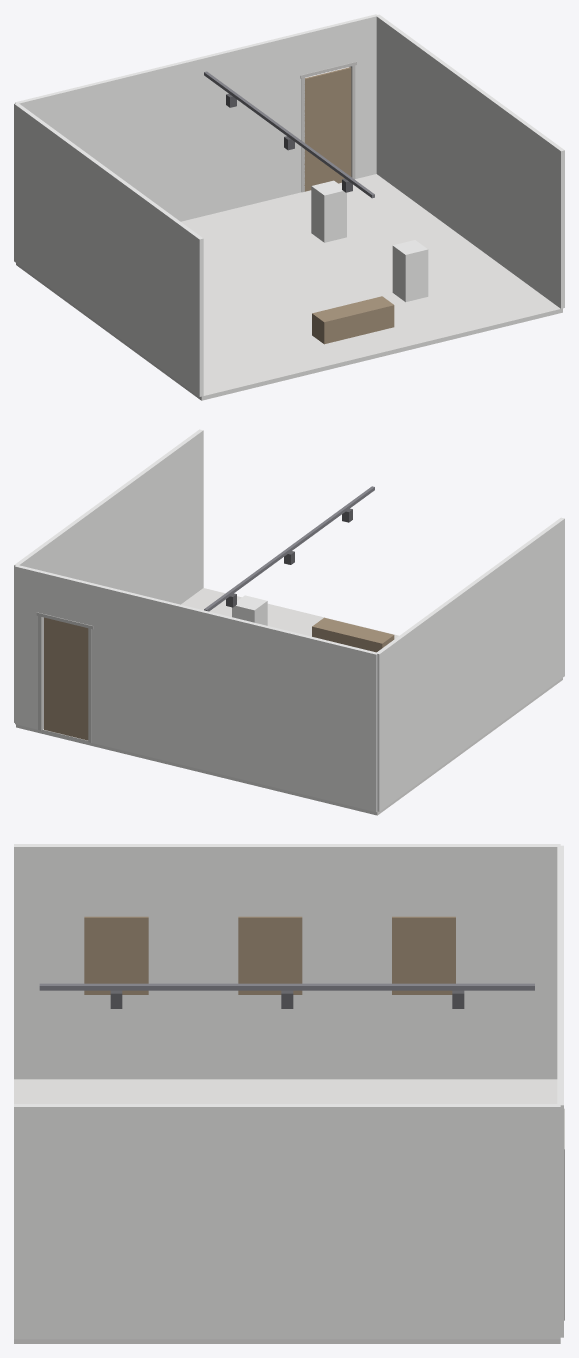
The model's file is scene-gallery.glb.
The picture shows the model from 3 angles, top to bottom: view 1: azimuth 30°, elevation 25°; view 2: azimuth 150°, elevation 25°; view 3: azimuth 270°, elevation 25°; orthographic projection. The views are drawn at different scales.
Parts seen in each view (by area): view 1: floor, wall_back_l, wall_left, wall_right, door_back, wall_back_r, bench, wall_back_lintel, pedestal_1, pedestal_0, track_light_rail, frame_back_r; view 2: wall_back_l, wall_left, wall_right, door_back, floor, wall_back_r, wall_back_lintel, bench, track_light_rail, pedestal_1, frame_back_r; view 3: wall_right, wall_left, floor, exhibit_frame_2, exhibit_frame_1, exhibit_frame_0, track_light_rail, wall_back_l, wall_back_r.
Boxes of the visible parts, x1,y1,x2,y2 form: floor: (16,174,562,400); wall_back_l: (15,32,303,221); wall_left: (14,103,203,396); wall_right: (376,14,564,308); door_back: (304,67,351,191); wall_back_r: (351,14,378,178); bench: (312,296,394,344); wall_back_lintel: (300,19,356,75); pedestal_1: (392,240,428,302); pedestal_0: (311,180,346,242); track_light_rail: (204,71,374,198); frame_back_r: (349,64,355,179); wall_back_l: (90,583,377,812); wall_left: (376,517,564,811); wall_right: (14,429,203,722); door_back: (44,617,88,740); floor: (16,588,562,815); wall_back_r: (15,565,39,729); wall_back_lintel: (37,570,94,624); bench: (312,617,394,652); track_light_rail: (204,486,374,611); pedestal_1: (232,595,267,625); frame_back_r: (38,614,43,730); wall_right: (14,1104,560,1339); wall_left: (14,844,560,1079); floor: (14,1079,560,1343); exhibit_frame_2: (84,916,148,994); exhibit_frame_1: (238,916,302,994); exhibit_frame_0: (392,916,455,994); track_light_rail: (39,983,534,990); wall_back_l: (557,845,563,1051); wall_back_r: (557,1087,563,1337).
Bounding box in the file's own units: 7.28 × 3.08 × 6.45.
